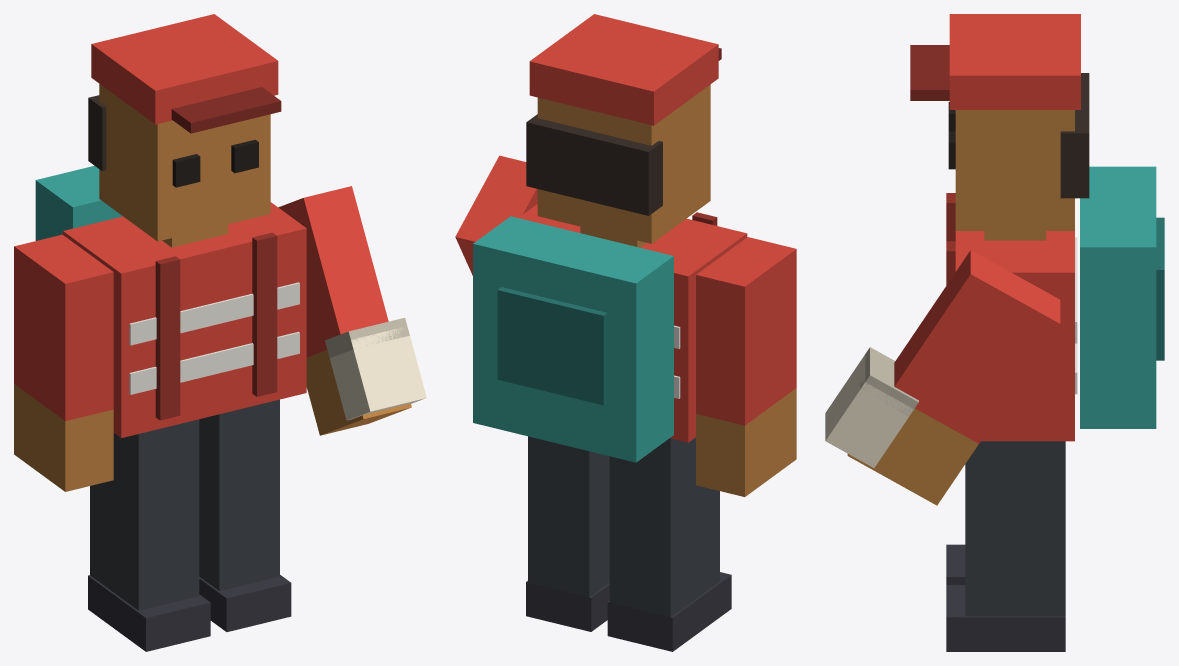
The model's file is office__courier.glb.
3 renders of one model, left to right at view 1: azimuth 30°, elevation 25°; view 2: azimuth 150°, elevation 25°; view 3: azimuth 270°, elevation 25°, orthographic. The views are drawn at different scales.
Visible parts, largest first — view 1: office__courier, rig_armL, rig_legL, rig_armR, rig_legR; view 2: office__courier, rig_armL, rig_legL, rig_legR, rig_armR; view 3: office__courier, rig_armR, rig_legR, rig_legL.
Part boxes in pixels (x1=…): office__courier: x1=35, y1=14, x2=306, y2=438; rig_armL: x1=14, y1=234, x2=113, y2=491; rig_legL: x1=88, y1=419, x2=210, y2=651; rig_armR: x1=278, y1=186, x2=426, y2=435; rig_legR: x1=199, y1=399, x2=291, y2=631; office__courier: x1=473, y1=14, x2=747, y2=462; rig_armL: x1=696, y1=237, x2=796, y2=496; rig_legL: x1=607, y1=437, x2=731, y2=651; rig_legR: x1=526, y1=436, x2=609, y2=631; rig_armR: x1=455, y1=155, x2=537, y2=275; office__courier: x1=910, y1=14, x2=1164, y2=441; rig_armR: x1=825, y1=250, x2=1060, y2=505; rig_legR: x1=946, y1=441, x2=1065, y2=651; rig_legL: x1=946, y1=544, x2=965, y2=584.
Size of the model in its own units: 1.46 by 2.64 by 1.42.
